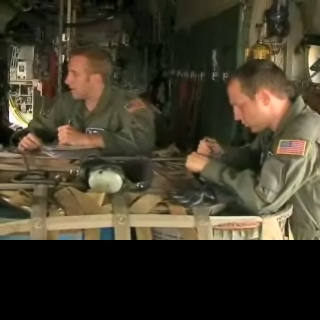without_mask: (227, 80, 269, 133), (66, 56, 93, 100)
